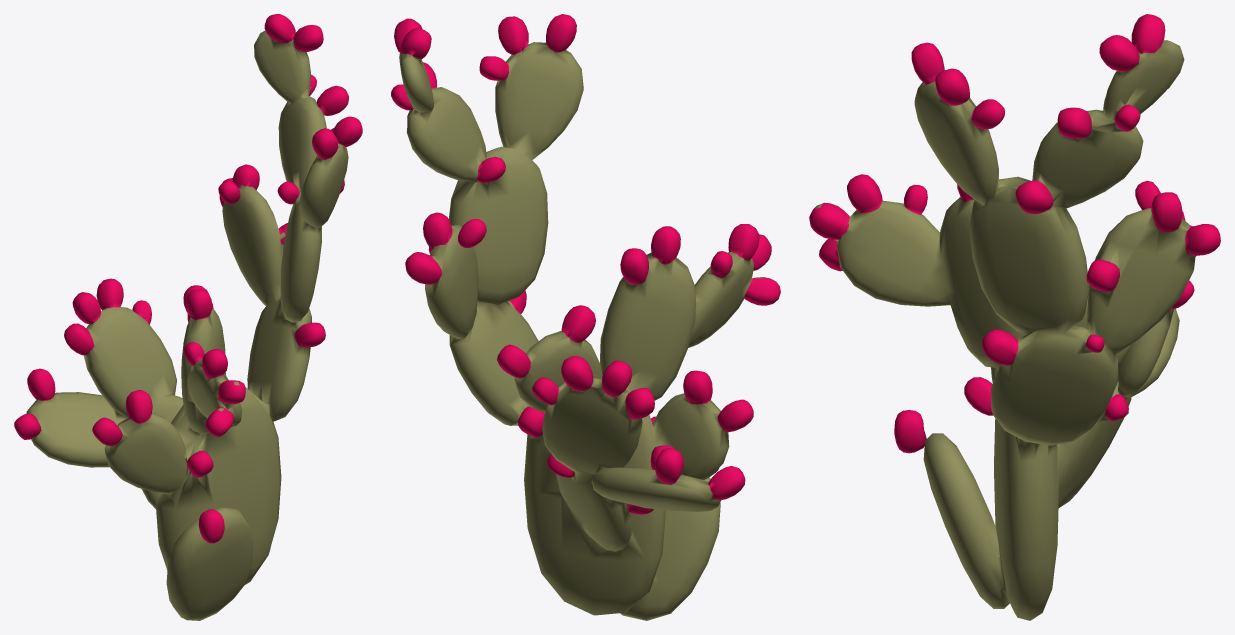
Rendered from cactus_petit_en_fleur.fbx.
3 views of the same model, side by side, from view 1: azimuth 30°, elevation 25°; view 2: azimuth 150°, elevation 25°; view 3: azimuth 270°, elevation 25° (orthographic). The views are drawn at different scales.
Visible parts, largest first — view 1: Cube.005; view 2: Cube.005; view 3: Cube.005.
Part boxes in pixels (<box>): Cube.005: <box>14,14,362,620</box>; Cube.005: <box>391,14,780,620</box>; Cube.005: <box>809,14,1220,620</box>.
Size of the model in its own units: 98.31 by 158 by 87.73.
